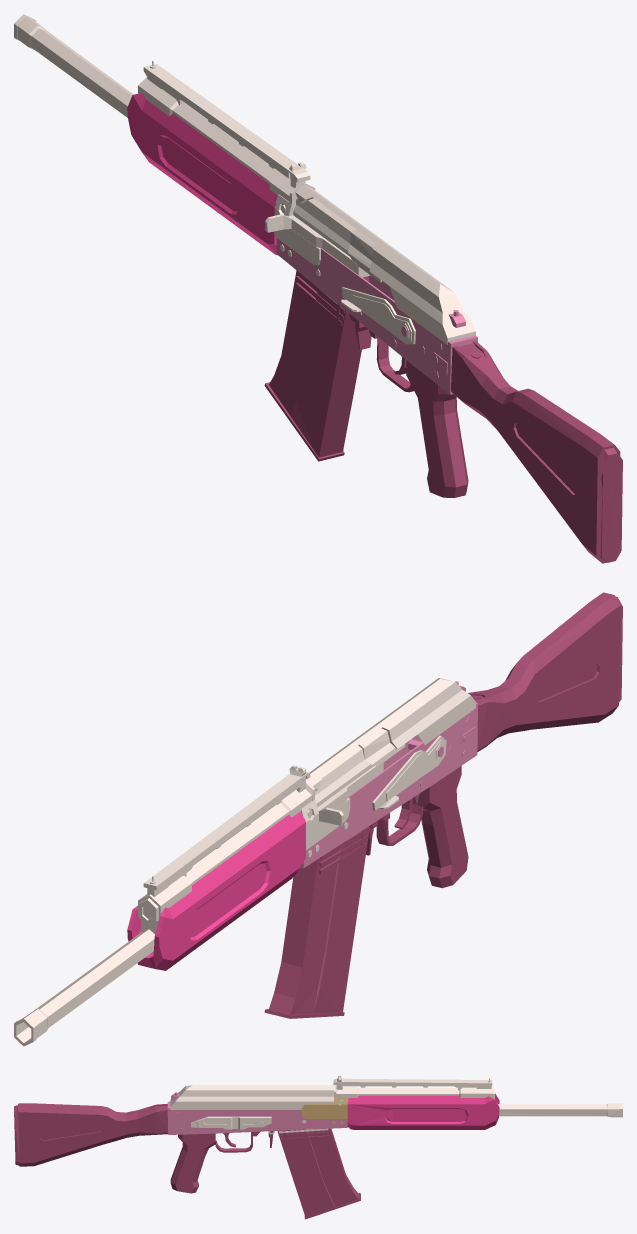
Rendered from Shotgun_Saiga12.obj.
3 renders of one model, top to bottom at view 1: azimuth 30°, elevation 25°; view 2: azimuth 150°, elevation 25°; view 3: azimuth 270°, elevation 25°, orthographic. The views are drawn at different scales.
Parts seen in each view (by area): view 1: Panel, Mag, Grip, Accent, Body; view 2: Panel, Mag, Grip, Accent, Body; view 3: Panel, Grip, Mag, Accent, Body, Bolt.
Boxes of the visible parts, left/top/right/bottom form: Panel: left=14, top=14, right=475, bottom=344; Mag: left=264, top=270, right=468, bottom=497; Grip: left=451, top=341, right=622, bottom=563; Accent: left=127, top=93, right=278, bottom=255; Body: left=276, top=238, right=477, bottom=394; Panel: left=14, top=678, right=475, bottom=1046; Mag: left=264, top=766, right=468, bottom=1018; Grip: left=468, top=592, right=622, bottom=751; Accent: left=127, top=811, right=305, bottom=970; Body: left=300, top=681, right=477, bottom=868; Panel: left=170, top=1075, right=622, bottom=1134; Grip: left=14, top=1103, right=168, bottom=1166; Mag: left=170, top=1128, right=360, bottom=1219; Accent: left=347, top=1093, right=499, bottom=1129; Body: left=167, top=1092, right=347, bottom=1134; Bolt: left=301, top=1097, right=348, bottom=1124.
Bounding box in the file's own units: 0.1614 × 0.7332 × 2.9.
